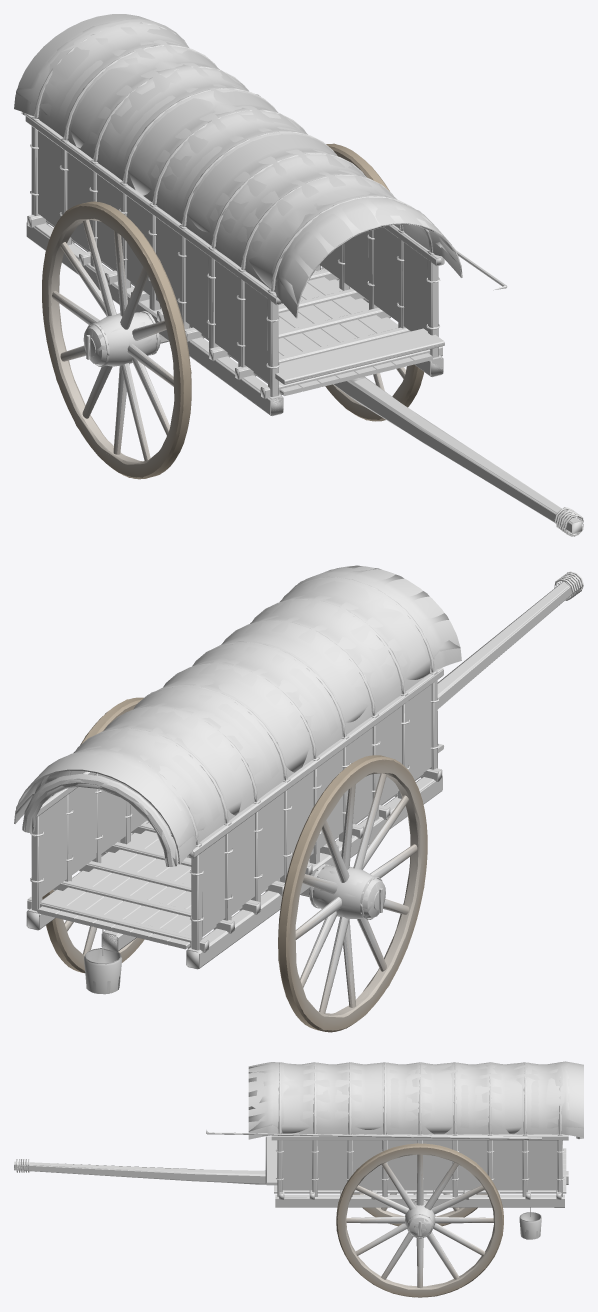
The model's file is carreta.glb.
The picture shows the model from 3 angles, top to bottom: view 1: azimuth 30°, elevation 25°; view 2: azimuth 150°, elevation 25°; view 3: azimuth 270°, elevation 25°; orthographic projection. The views are drawn at different scales.
Visible parts, largest first — view 1: Body_Mesh, Body_LOD, Wheel.R_Mesh, Wheel.R_LOD, Wheel.L_Mesh, Wheel.L_LOD; view 2: Body_Mesh, Body_LOD, Wheel.R_Mesh, Wheel.R_LOD, Wheel.L_Mesh, Wheel.L_LOD; view 3: Body_Mesh, Body_LOD, Wheel.L_Mesh, Wheel.L_LOD, Wheel.R_LOD, Wheel.R_Mesh.
Boxes of the visible parts, left/top/right/bottom form: Body_Mesh: left=14, top=14, right=583, bottom=536; Body_LOD: left=16, top=18, right=583, bottom=536; Wheel.R_Mesh: left=42, top=201, right=191, bottom=479; Wheel.R_LOD: left=42, top=201, right=191, bottom=478; Wheel.L_Mesh: left=321, top=144, right=424, bottom=421; Wheel.L_LOD: left=322, top=143, right=423, bottom=421; Body_Mesh: left=14, top=566, right=583, bottom=994; Body_LOD: left=15, top=565, right=583, bottom=993; Wheel.R_Mesh: left=278, top=755, right=427, bottom=1032; Wheel.R_LOD: left=278, top=755, right=427, bottom=1032; Wheel.L_Mesh: left=42, top=697, right=148, bottom=973; Wheel.L_LOD: left=42, top=697, right=147, bottom=972; Body_Mesh: left=14, top=1061, right=583, bottom=1239; Body_LOD: left=14, top=1061, right=583, bottom=1239; Wheel.L_Mesh: left=336, top=1143, right=503, bottom=1297; Wheel.L_LOD: left=336, top=1143, right=503, bottom=1297; Wheel.R_LOD: left=353, top=1193, right=487, bottom=1225; Wheel.R_Mesh: left=355, top=1193, right=486, bottom=1226.
Bounding box in the file's own units: 2.66 × 2.82 × 7.48.
